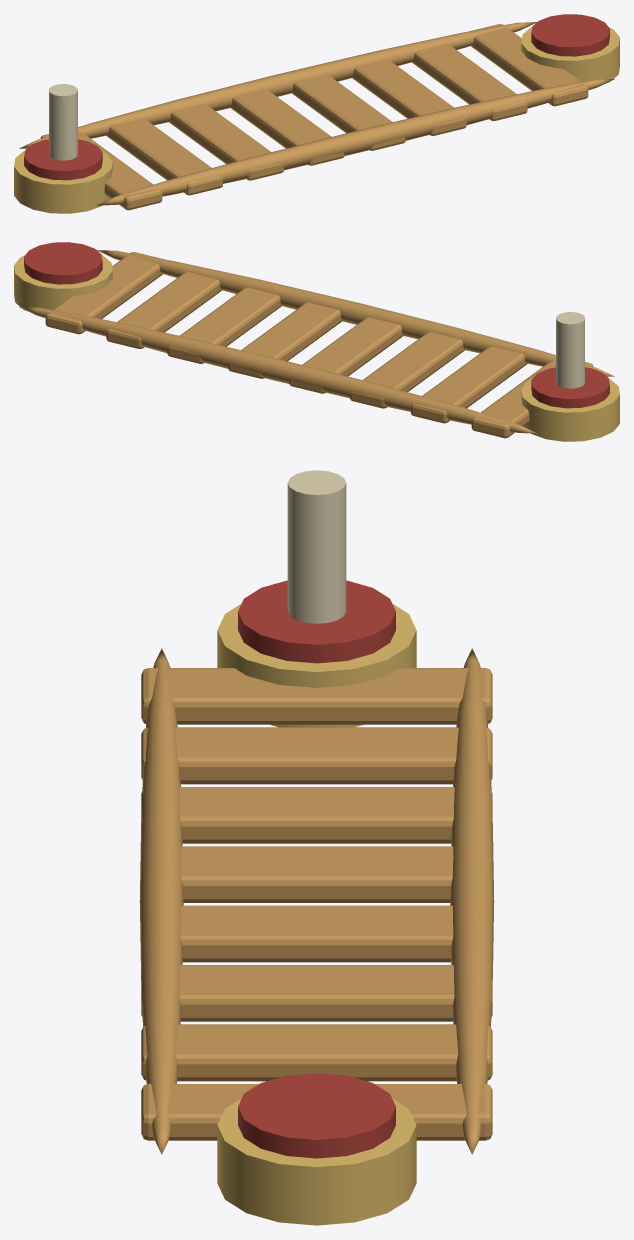
Rendered from chopstick_bridge.glb.
The picture shows the model from 3 angles, top to bottom: view 1: azimuth 30°, elevation 25°; view 2: azimuth 150°, elevation 25°; view 3: azimuth 270°, elevation 25°; orthographic projection. The views are drawn at different scales.
Parts seen in each view (by area): view 1: chopstick_bridge_Palette; view 2: chopstick_bridge_Palette; view 3: chopstick_bridge_Palette.
Part boxes in pixels (left/top/right/bottom): chopstick_bridge_Palette: left=14, top=14, right=619, bottom=213; chopstick_bridge_Palette: left=14, top=242, right=619, bottom=441; chopstick_bridge_Palette: left=139, top=470, right=494, bottom=1225.
Size of the model in its own units: 4.68 by 0.775 by 1.21.
